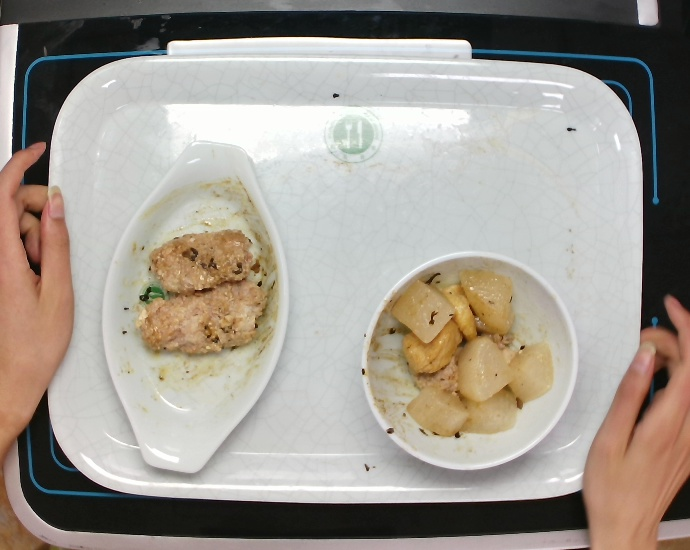JYsf-Fan_Wan: (352, 242, 583, 476)
JYsf-Yu_Pan: (95, 135, 295, 480)
